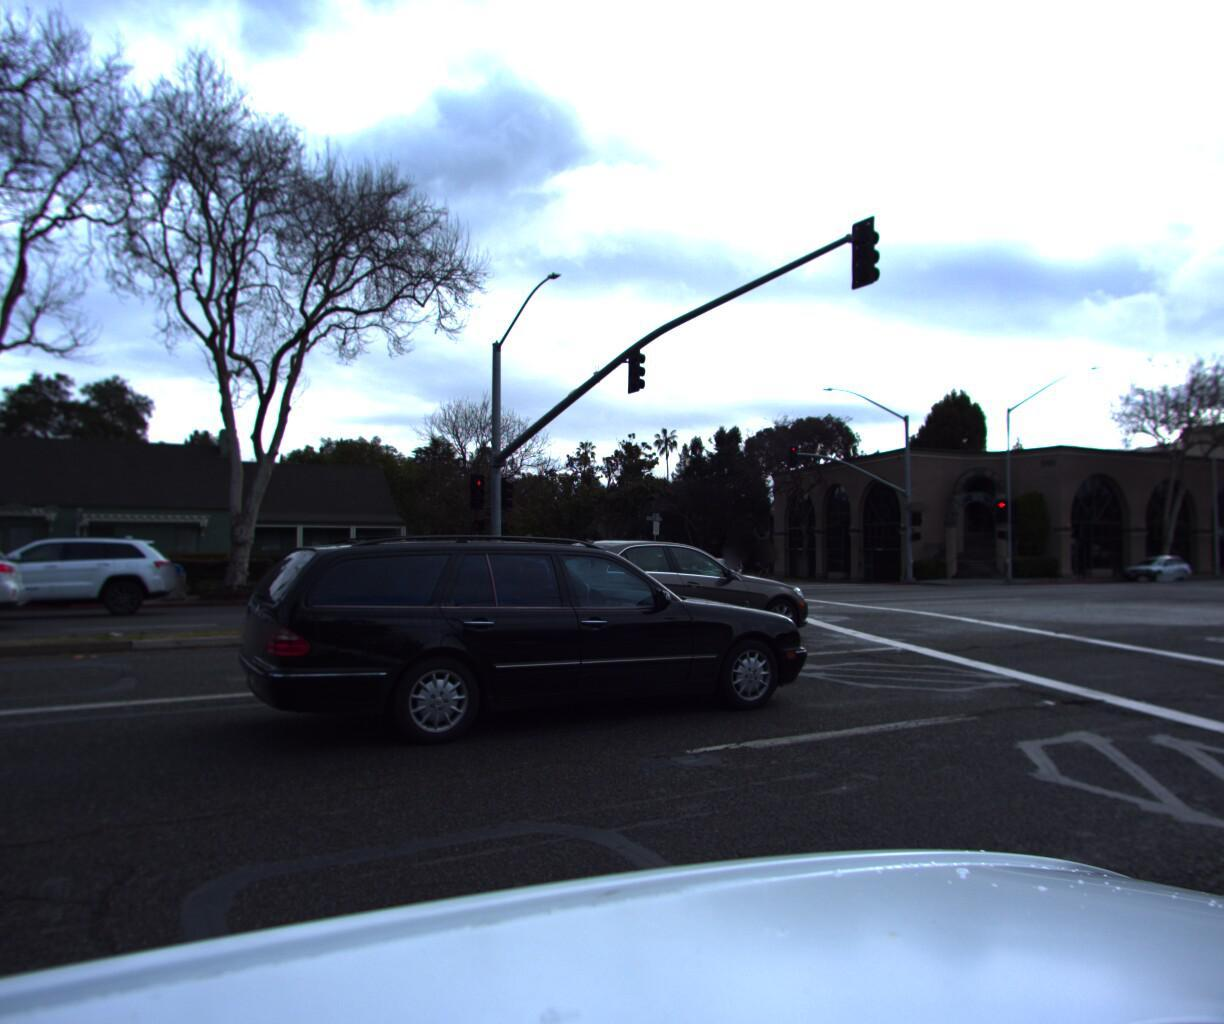bicycle: (715, 553, 750, 594), (713, 554, 743, 596), (686, 553, 717, 594), (748, 553, 778, 595)
car: (233, 531, 820, 769), (476, 536, 828, 669), (0, 535, 167, 627), (0, 530, 21, 654), (1109, 561, 1190, 591)
